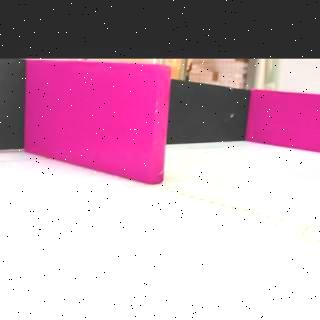xparking: (26, 66, 166, 168), (249, 96, 320, 150)
